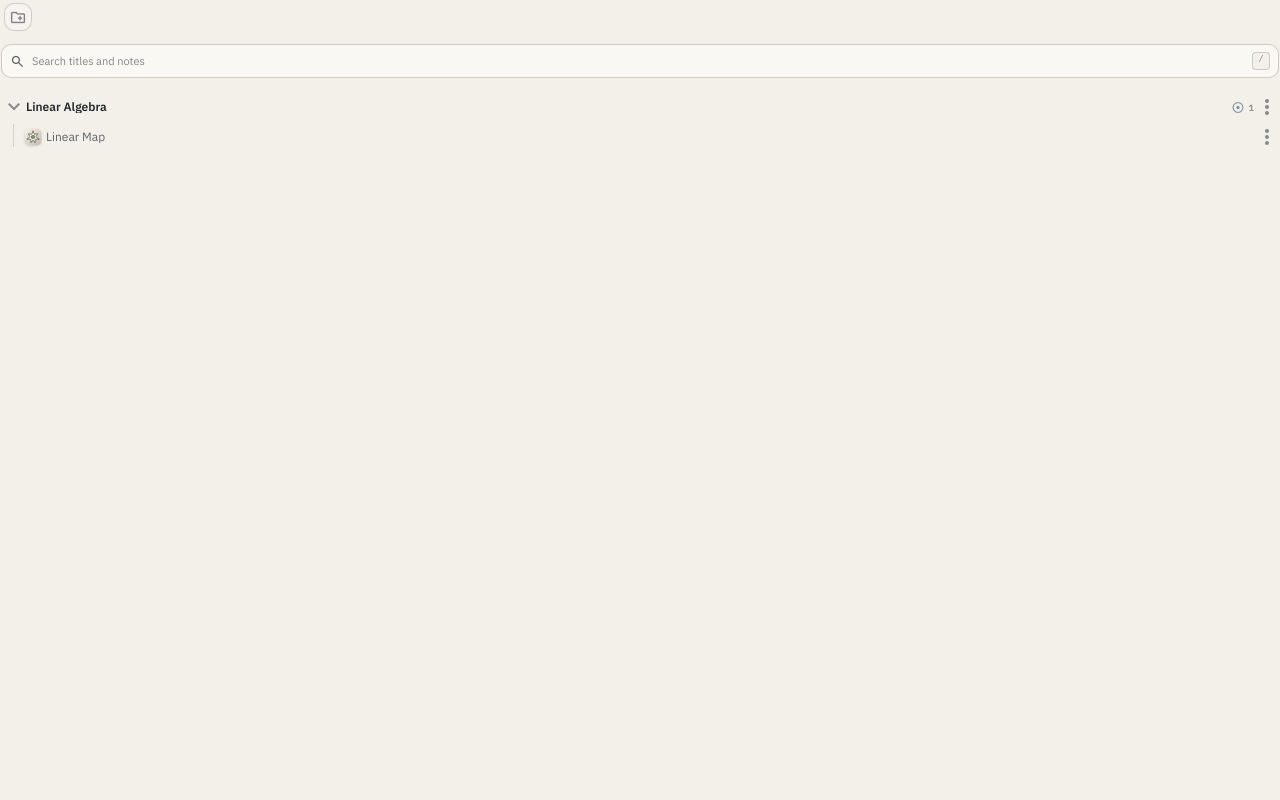
Test: ExplorerTree › renames folders and prevents deleting non-empty folders
Click the button named "Folder actions" at (1267,107), box [1258,98,1276,116]
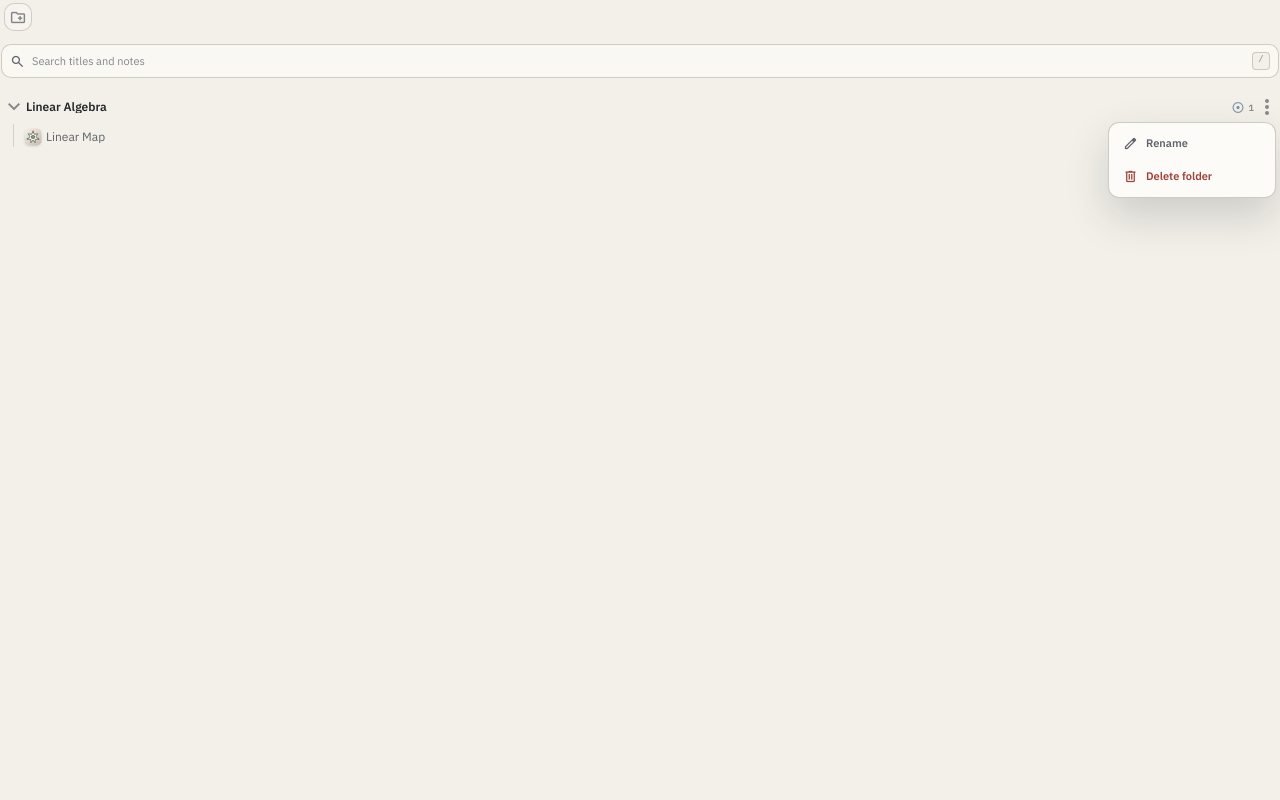
Click the menu item "Rename" at (1192,144), box [1114,128,1270,159]
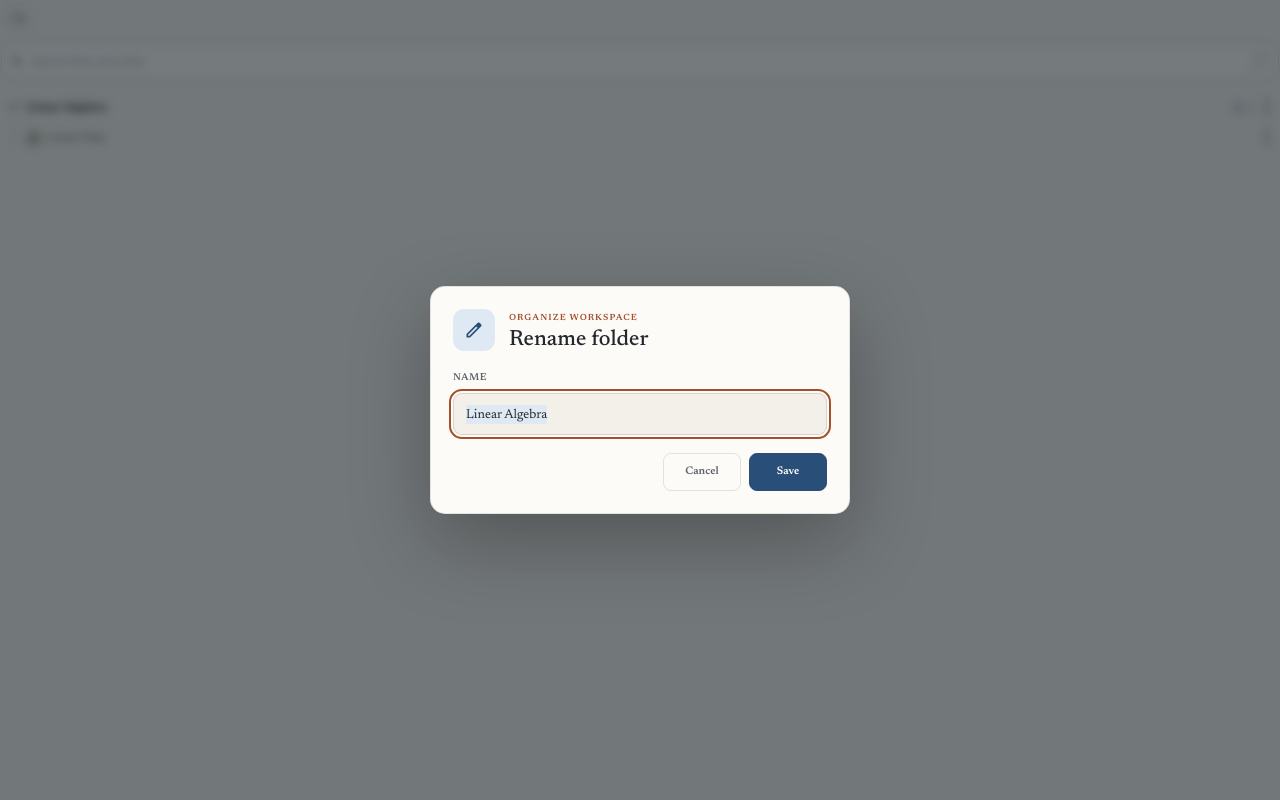
Replace the text in the field labelled "Name" with "Foundations" at (640,414), box [453,393,827,435]
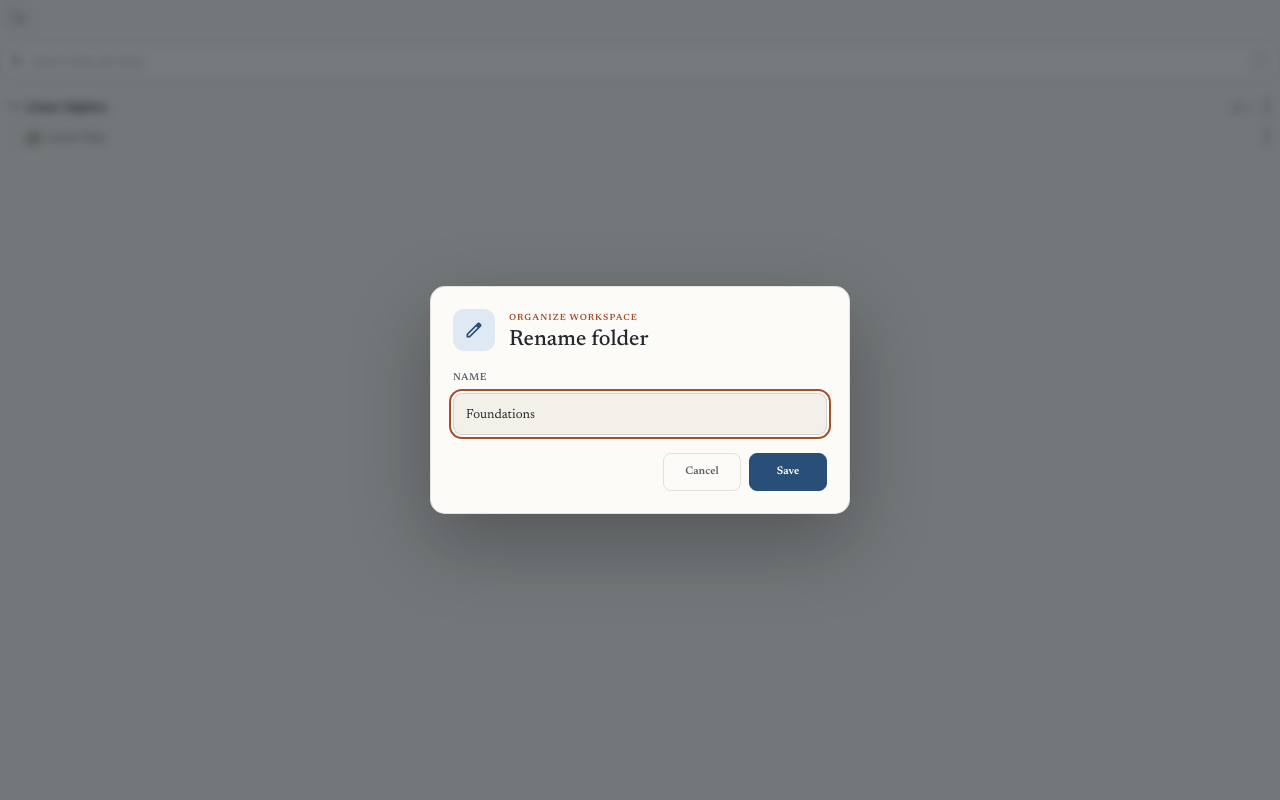
Submit the dialog with class "explorer-dialog", box [430,286,850,514]
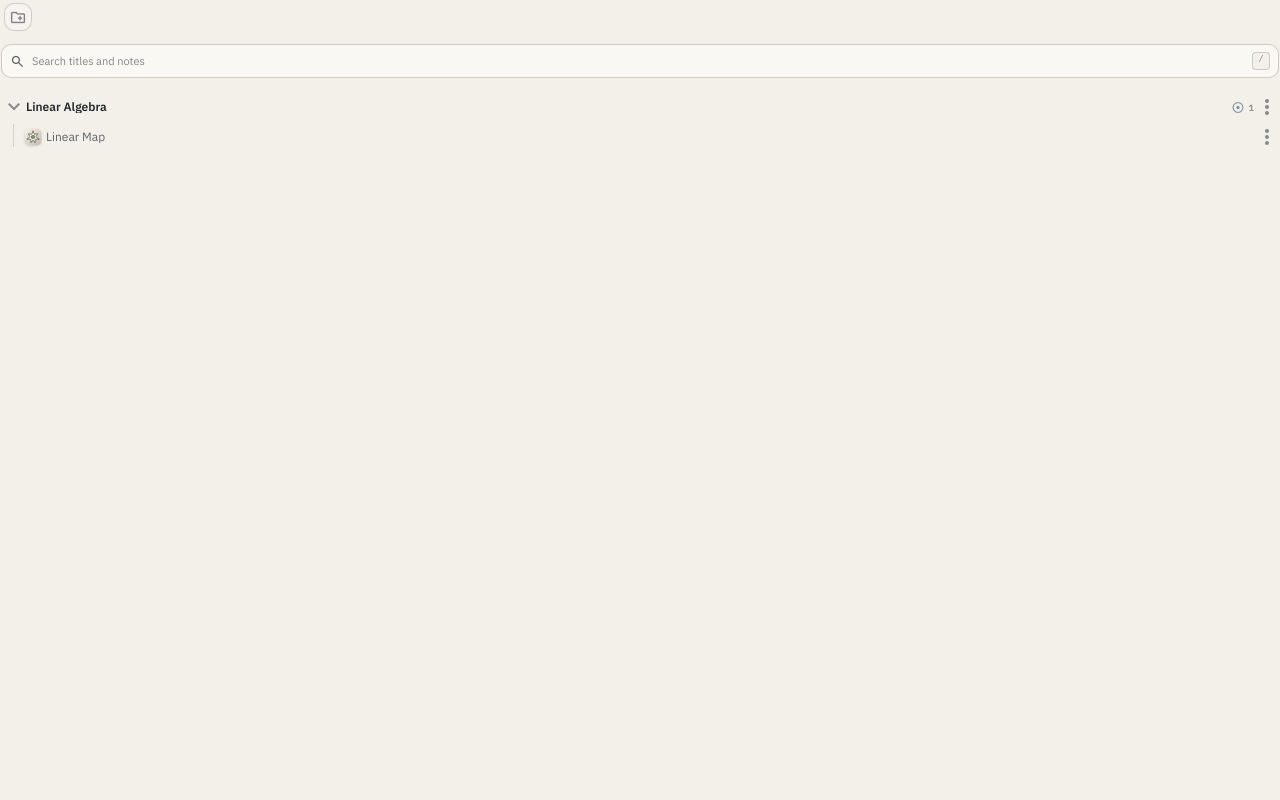
Click the button named "Folder actions" at (1267,107), box [1258,98,1276,116]
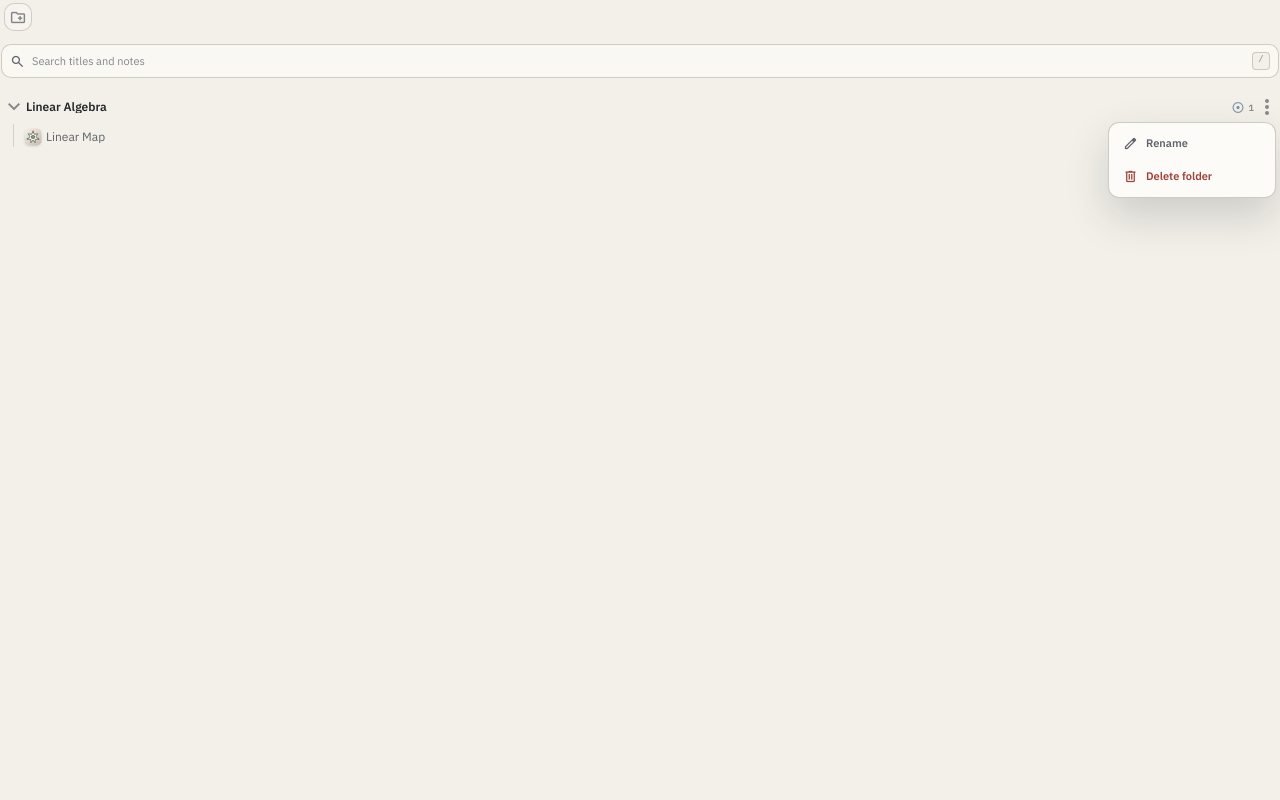
Click the menu item "Delete folder" at (1192,176), box [1114,161,1270,192]
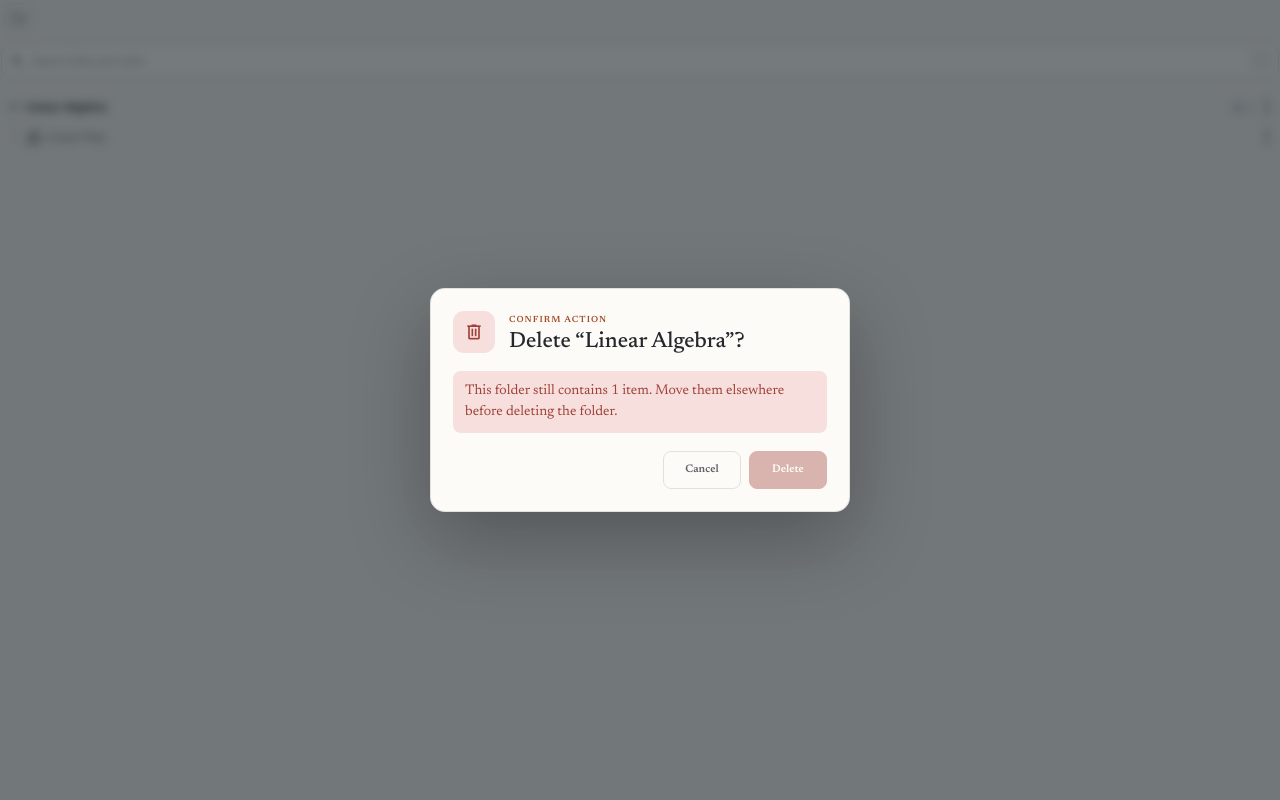
Expected: the button "Delete" is disabled, [749,451,827,489]
Expected: the text "Move them elsewhere" is shown, [465,384,784,419]
